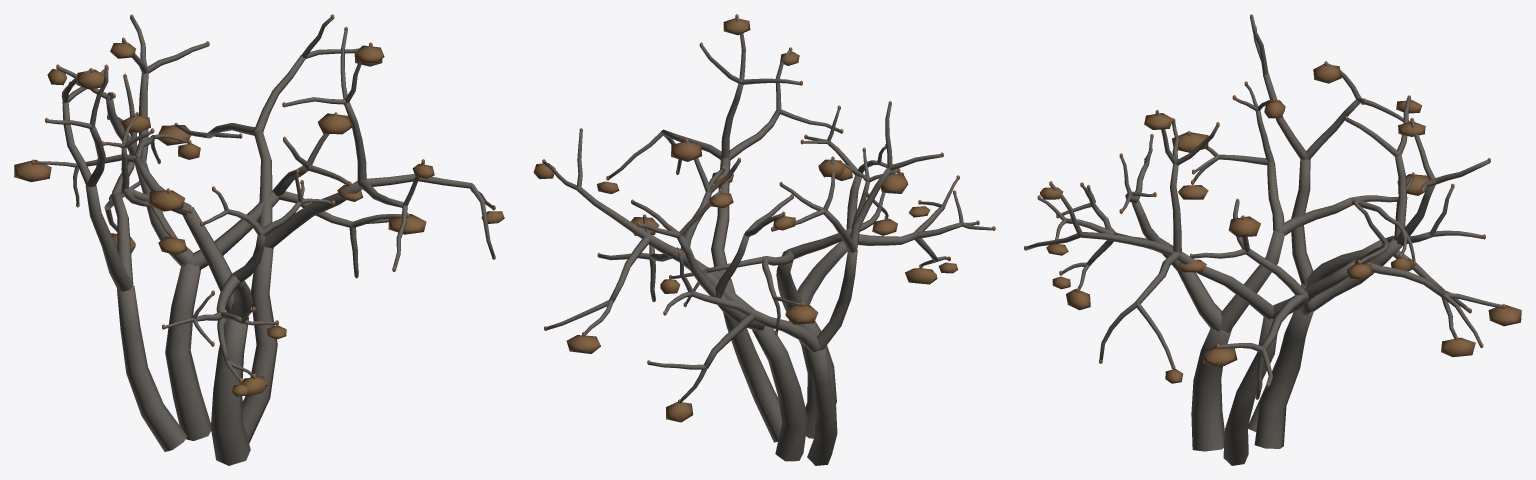
File: scrub_oak_5.glb
The picture shows the model from 3 angles, left to right: view 1: azimuth 30°, elevation 25°; view 2: azimuth 150°, elevation 25°; view 3: azimuth 270°, elevation 25°; orthographic projection. The views are drawn at different scales.
Parts seen in each view (by area): view 1: ScrubOak_LimbWood_3, ScrubOak_LimbWood_0, ScrubOak_LimbWood_1, ScrubOak_LimbWood_2, ScrubOak_Dead_47_Leaves, ScrubOak_Dead_51_Leaves, ScrubOak_Dead_19_Leaves, ScrubOak_Dead_21_Leaves; view 2: ScrubOak_LimbWood_0, ScrubOak_LimbWood_2, ScrubOak_LimbWood_3, ScrubOak_LimbWood_1, ScrubOak_Dead_47_Leaves, ScrubOak_Dead_13_Leaves, ScrubOak_Dead_19_Leaves; view 3: ScrubOak_LimbWood_3, ScrubOak_LimbWood_0, ScrubOak_LimbWood_1, ScrubOak_LimbWood_2, ScrubOak_Dead_13_Leaves, ScrubOak_Dead_21_Leaves, ScrubOak_Dead_37_Leaves, ScrubOak_Dead_19_Leaves.
Boxes of the visible parts, box(x1,y1,x2,y2) form: ScrubOak_LimbWood_3: box(34, 115, 332, 465); ScrubOak_LimbWood_0: box(174, 17, 495, 443); ScrubOak_LimbWood_1: box(57, 17, 401, 440); ScrubOak_LimbWood_2: box(47, 68, 187, 451); ScrubOak_Dead_47_Leaves: box(14, 159, 51, 181); ScrubOak_Dead_51_Leaves: box(147, 190, 184, 211); ScrubOak_Dead_19_Leaves: box(318, 113, 351, 134); ScrubOak_Dead_21_Leaves: box(388, 214, 426, 234); ScrubOak_LimbWood_0: box(542, 17, 841, 442); ScrubOak_LimbWood_2: box(648, 104, 941, 465); ScrubOak_LimbWood_3: box(670, 109, 992, 438); ScrubOak_LimbWood_1: box(598, 141, 807, 461); ScrubOak_Dead_47_Leaves: box(785, 305, 818, 324); ScrubOak_Dead_13_Leaves: box(566, 335, 600, 353); ScrubOak_Dead_19_Leaves: box(671, 141, 701, 161); ScrubOak_LimbWood_3: box(1040, 84, 1415, 451); ScrubOak_LimbWood_0: box(1025, 113, 1503, 465); ScrubOak_LimbWood_1: box(1191, 97, 1489, 448); ScrubOak_LimbWood_2: box(1248, 17, 1484, 431); ScrubOak_Dead_13_Leaves: box(1488, 305, 1521, 326); ScrubOak_Dead_21_Leaves: box(1202, 346, 1237, 367); ScrubOak_Dead_37_Leaves: box(1441, 337, 1475, 356); ScrubOak_Dead_19_Leaves: box(1228, 216, 1260, 237).
Size of what is drawn, in the model's own units: 2.8 by 2.65 by 3.02.
